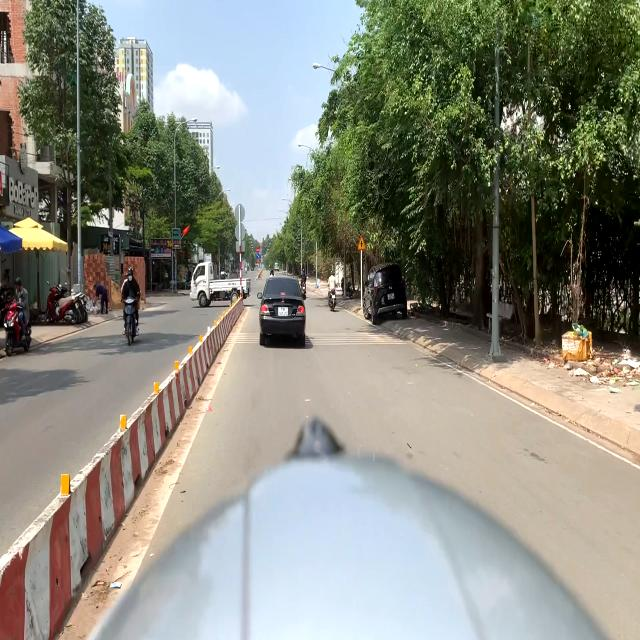P.102: (256, 247, 260, 252)
R.302a: (256, 253, 260, 259)
W.207a: (357, 235, 366, 251)
